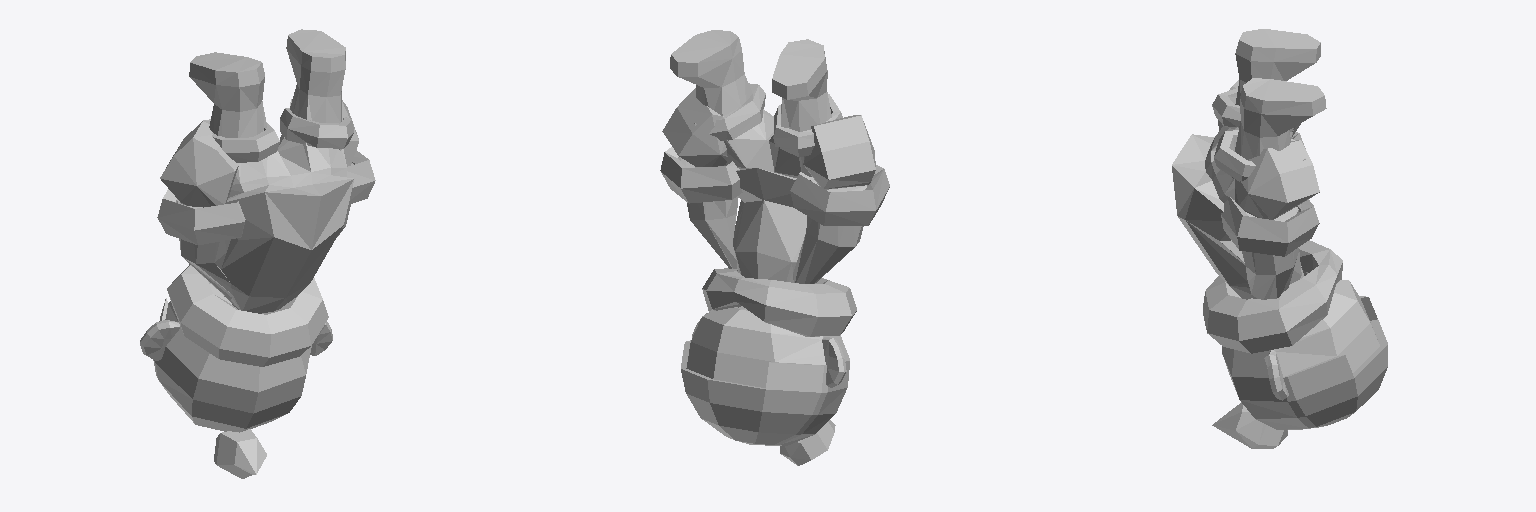
The model's file is eikadebil_000014.obj.
3 views of the same model, side by side, from view 1: azimuth 30°, elevation 25°; view 2: azimuth 150°, elevation 25°; view 3: azimuth 270°, elevation 25° (orthographic).
Parts seen in each view (by area): view 1: Cylinder; view 2: Cylinder; view 3: Cylinder.
Part boxes in pixels (x1,y1,x2,y2): Cylinder: (140,29,375,478); Cylinder: (660,30,889,465); Cylinder: (1172,29,1387,448).
Size of the model in its own units: 28.59 by 54.55 by 25.96.